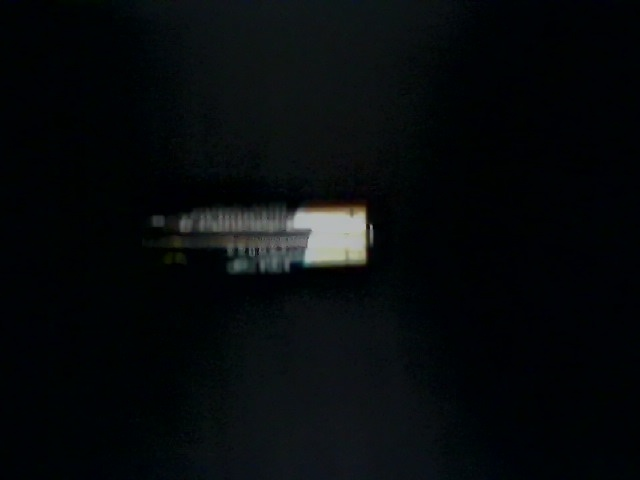YHLJ: (126, 322, 379, 420)
